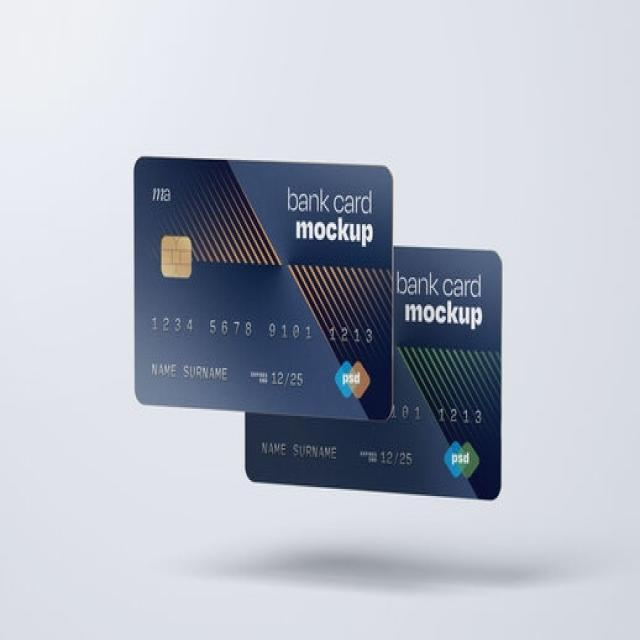payment_card: (132, 154, 395, 423)
